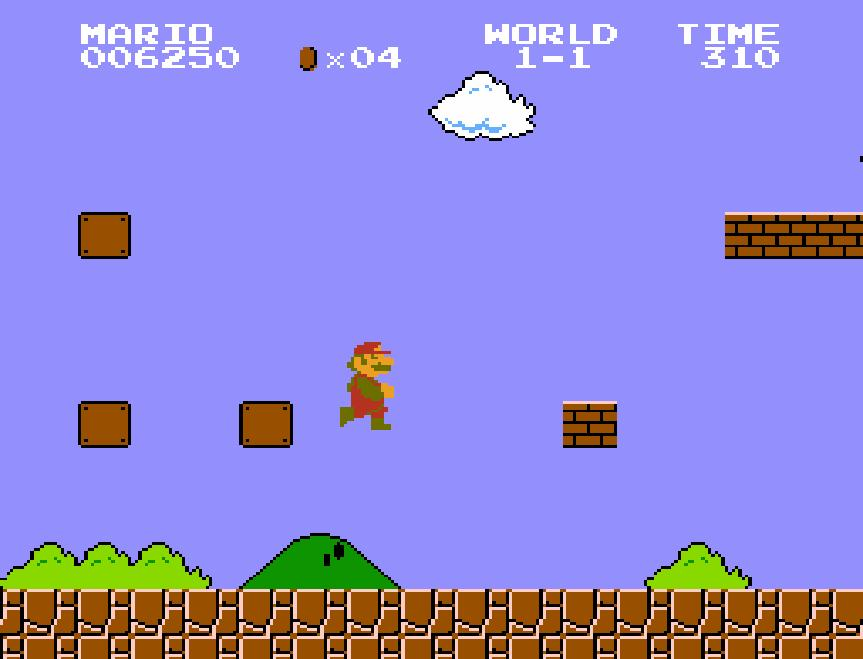big_mario: (338, 334, 396, 432)
